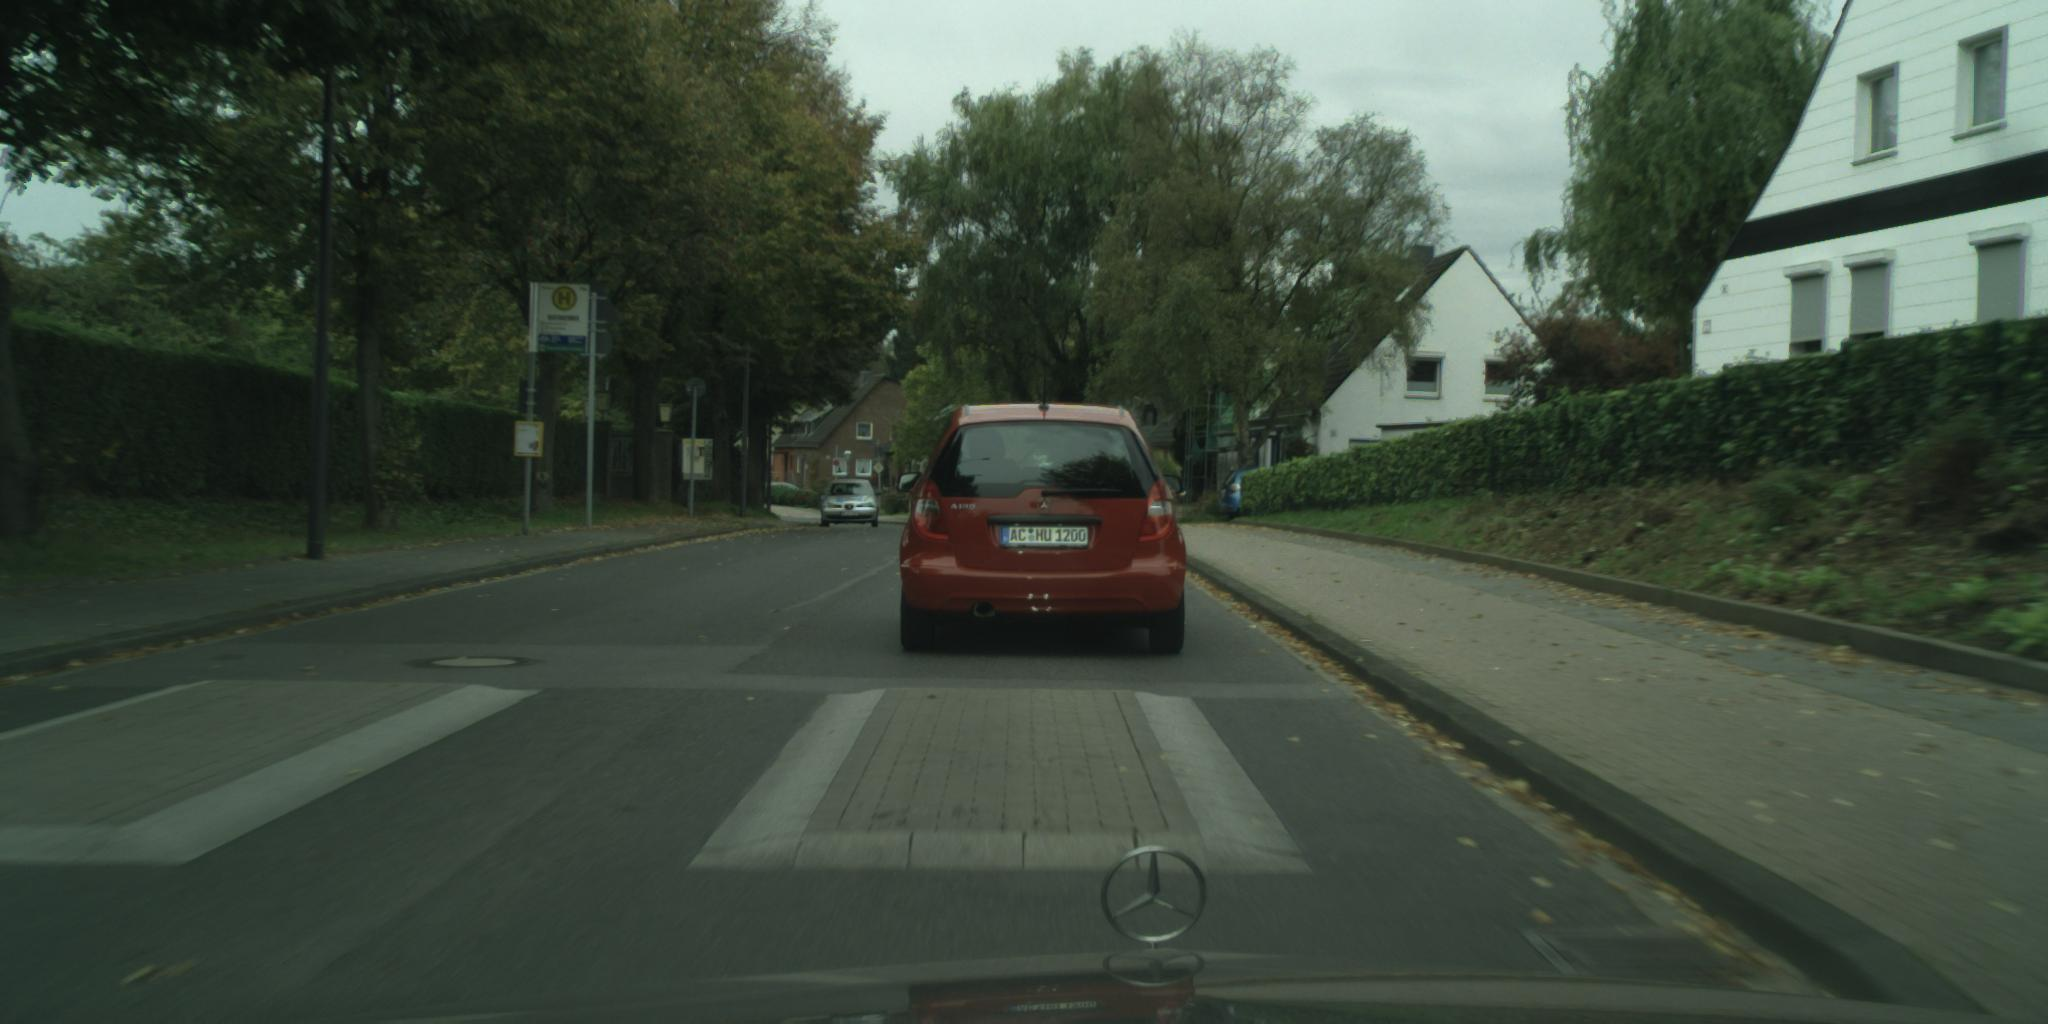car: (899, 376, 1189, 656), (1220, 468, 1284, 521), (818, 479, 886, 528), (761, 481, 803, 494)
